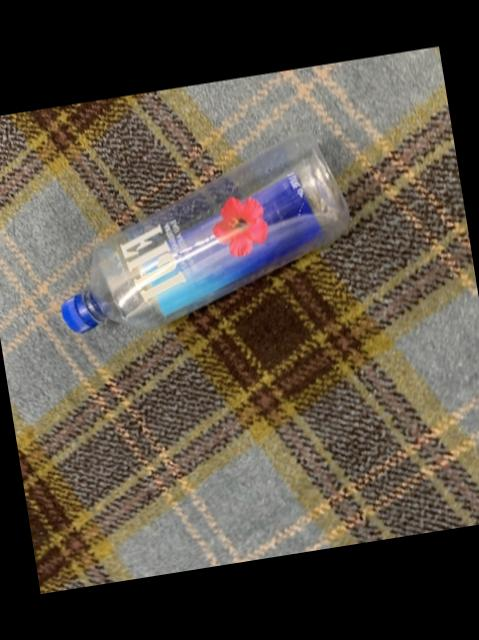plastic: (60, 133, 347, 330)
